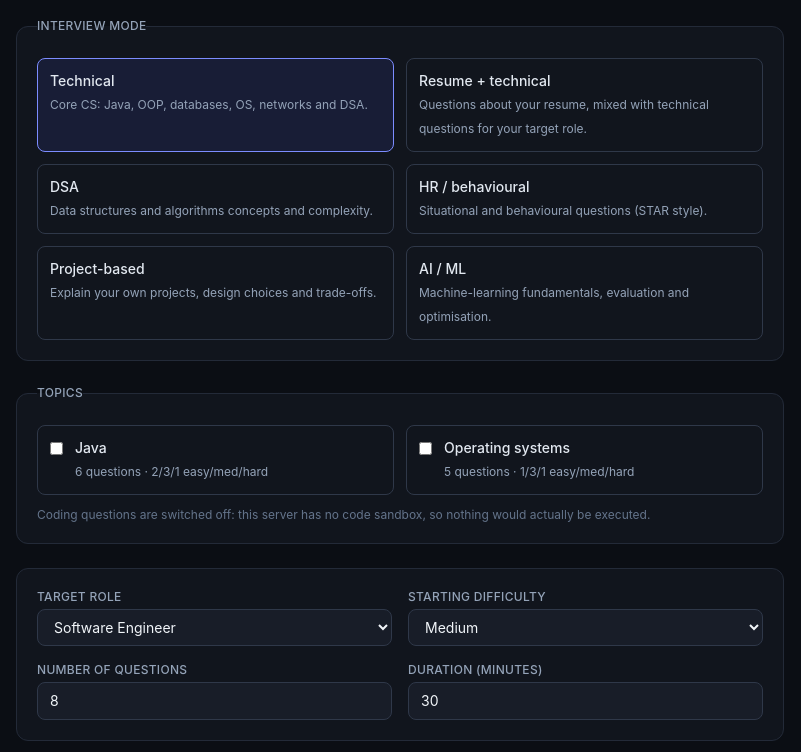
Scenario: InterviewSetup › offers to resume when an interview is already active
This screenshot has width=801, height=752.
Click the checkbox labelled "Java".
click(56, 448)  # box [50,442,63,455]
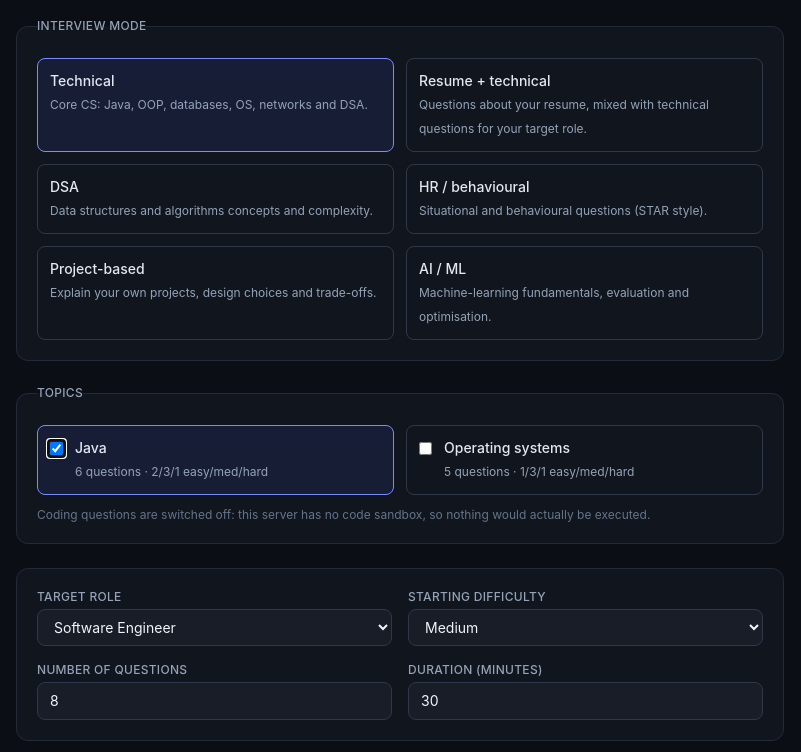
Replace the text in the number field labelled "Number of questions" with "5" at coordinates (214, 701), box [37,682,392,720]
(page scrolled)
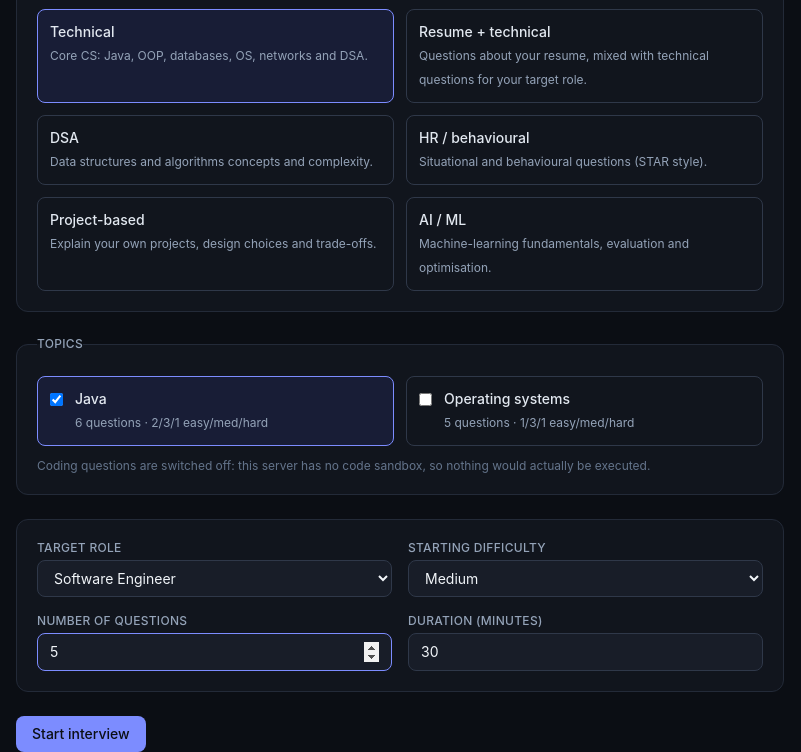
Click the button "Start interview".
click(81, 734)  # box [16,716,146,751]
(page scrolled)
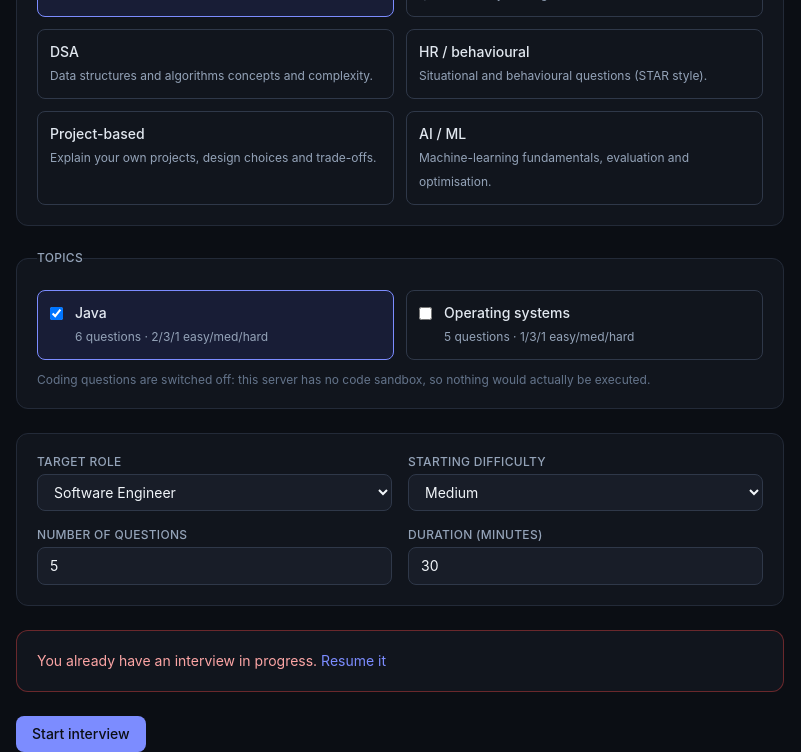
expect the message shows "already have an interview": met, box [37,652,317,669]
